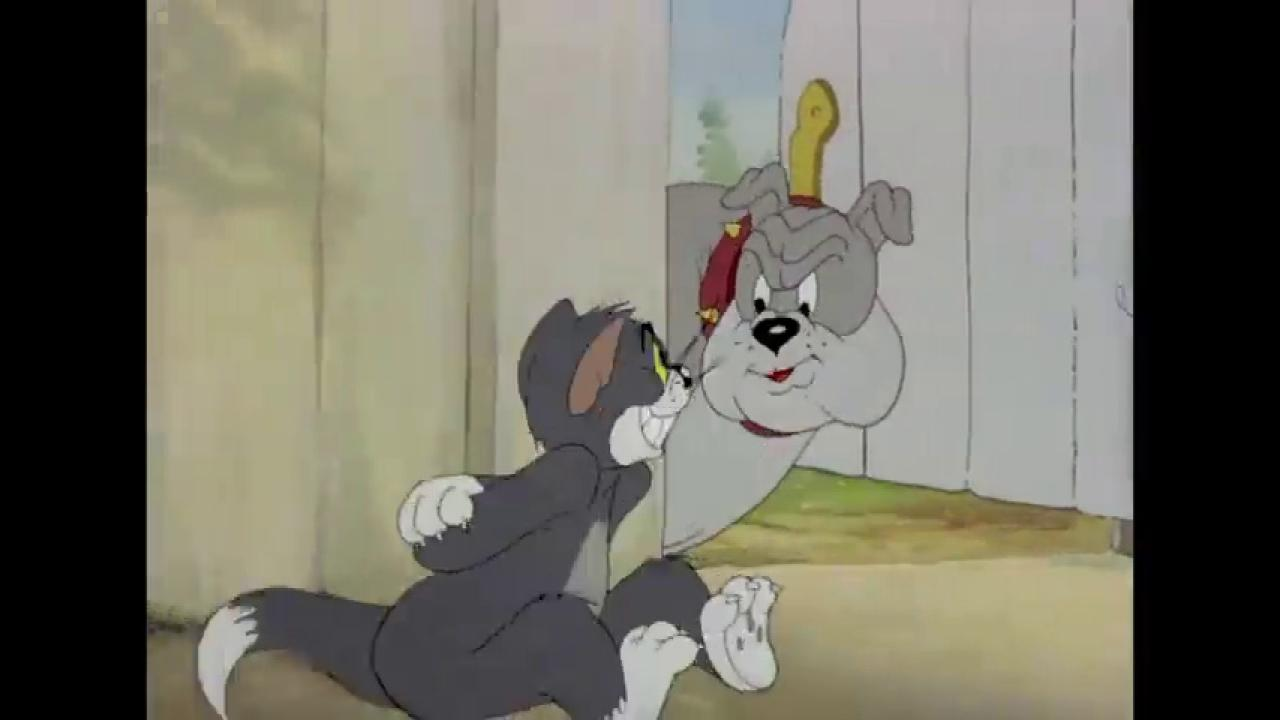Tom: (195, 297, 782, 720)
